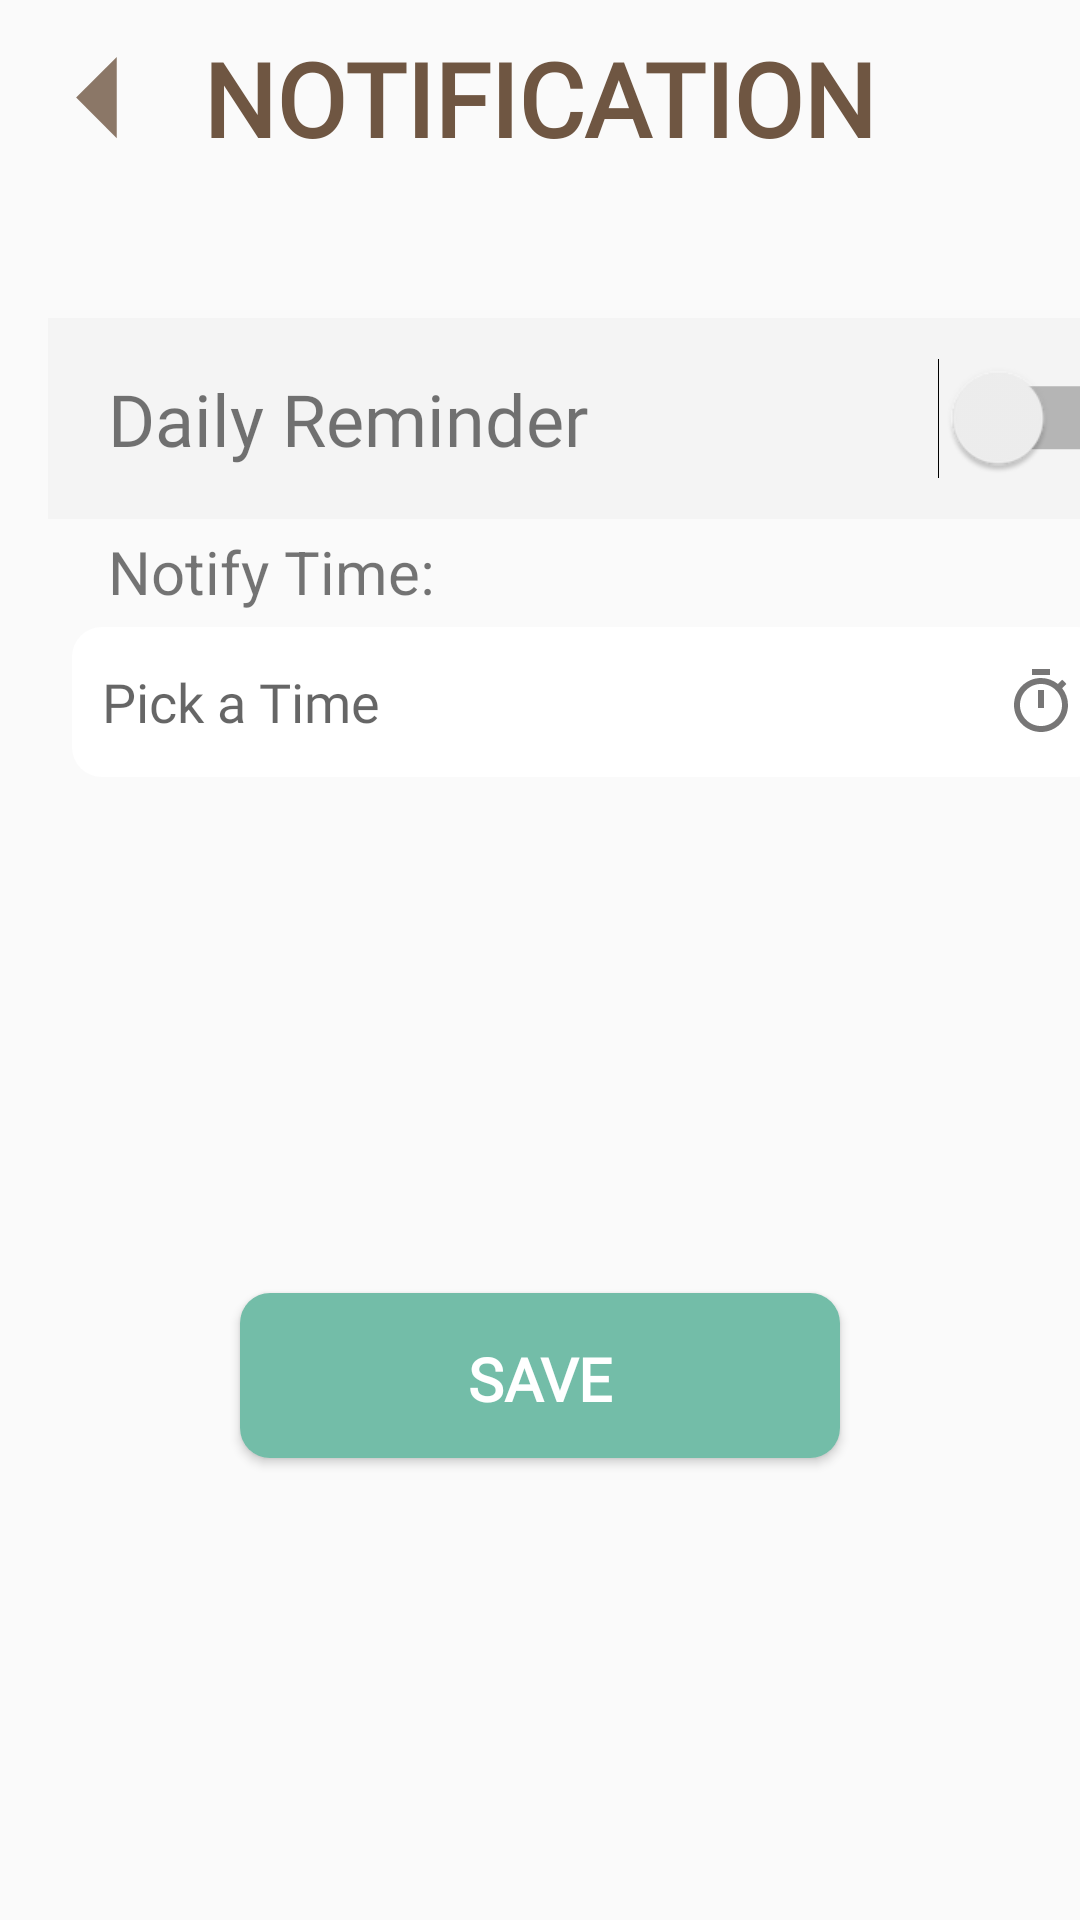

Screen size 1080 × 1920. Icon name, then its center in pixels as (x=x, y=y):
back: (x=96, y=97)
